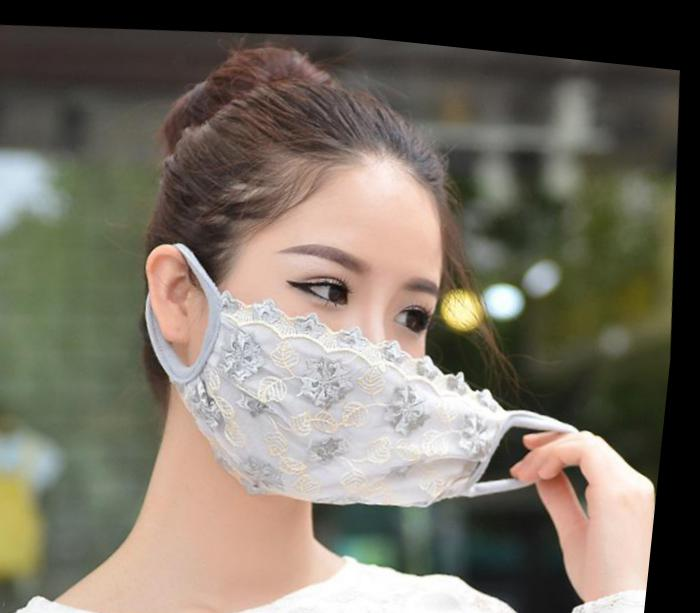WRONG: (196, 180, 474, 514)
